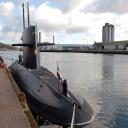submarine: (9, 27, 98, 128)
